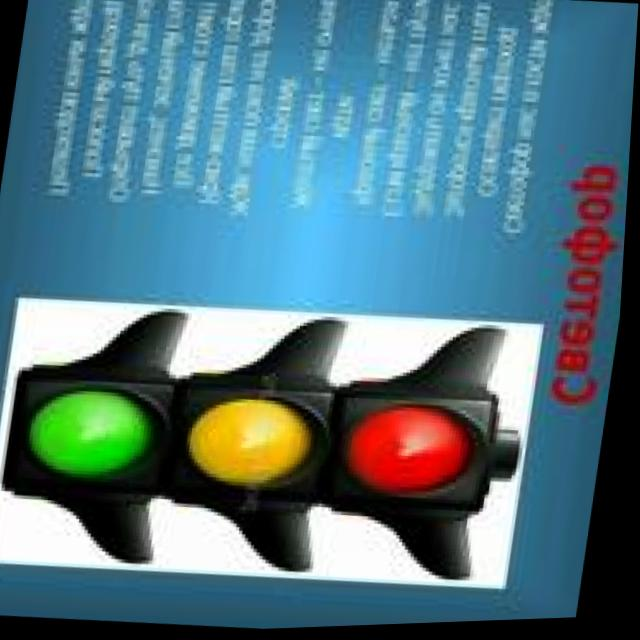green_light: (27, 353, 191, 522)
red_light: (332, 354, 514, 556)
yellow_light: (182, 345, 344, 550)
